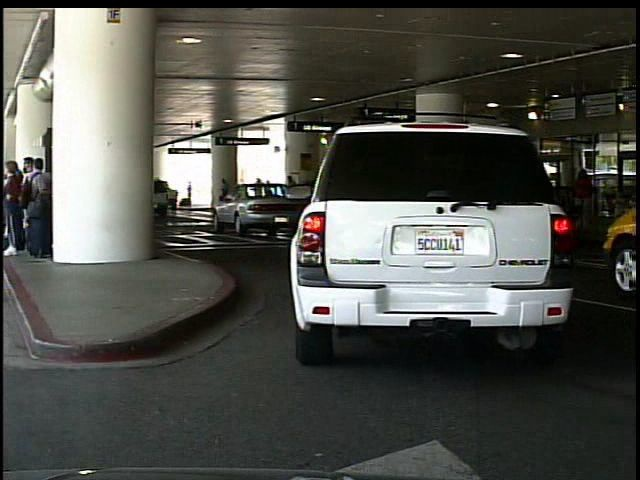person: (569, 163, 599, 204), (220, 174, 232, 209), (186, 180, 194, 207)
